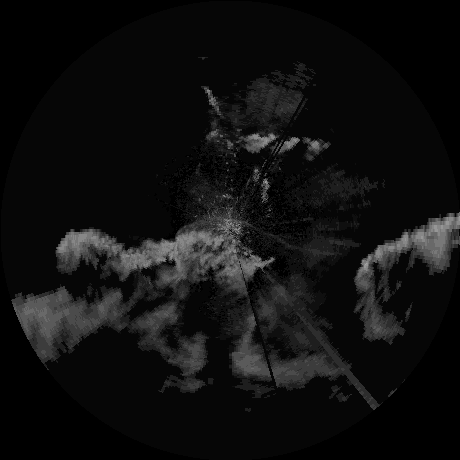frontgust: (239, 221, 309, 253)
